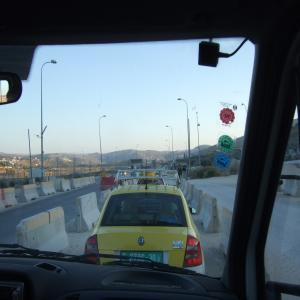Vehicle-registration-plate: (121, 253, 164, 265)
